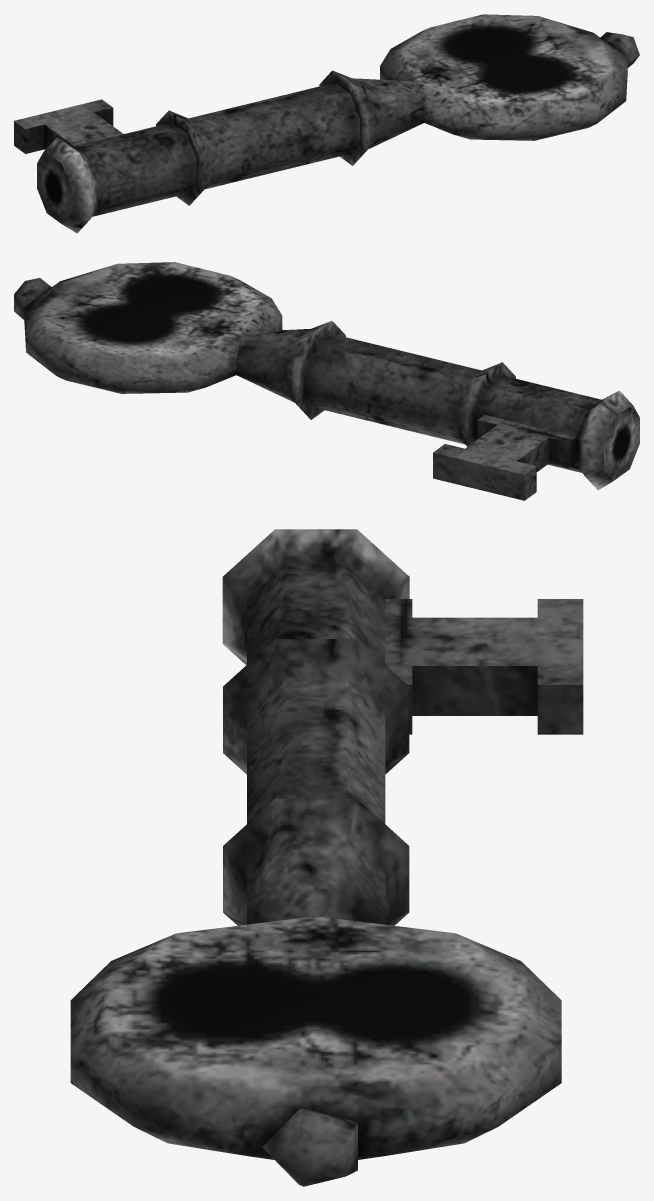
The model's file is key_tower.dae.
The picture shows the model from 3 angles, top to bottom: view 1: azimuth 30°, elevation 25°; view 2: azimuth 150°, elevation 25°; view 3: azimuth 270°, elevation 25°; orthographic projection. The views are drawn at different scales.
Visible parts, largest first — view 1: key_tower1; view 2: key_tower1; view 3: key_tower1.
Boxes of the visible parts, bbox=[...] form: key_tower1: bbox=[14, 14, 639, 233]; key_tower1: bbox=[14, 262, 639, 500]; key_tower1: bbox=[70, 529, 583, 1186].
Size of the model in its own units: 0.2039 by 0.0272 by 0.0779.
